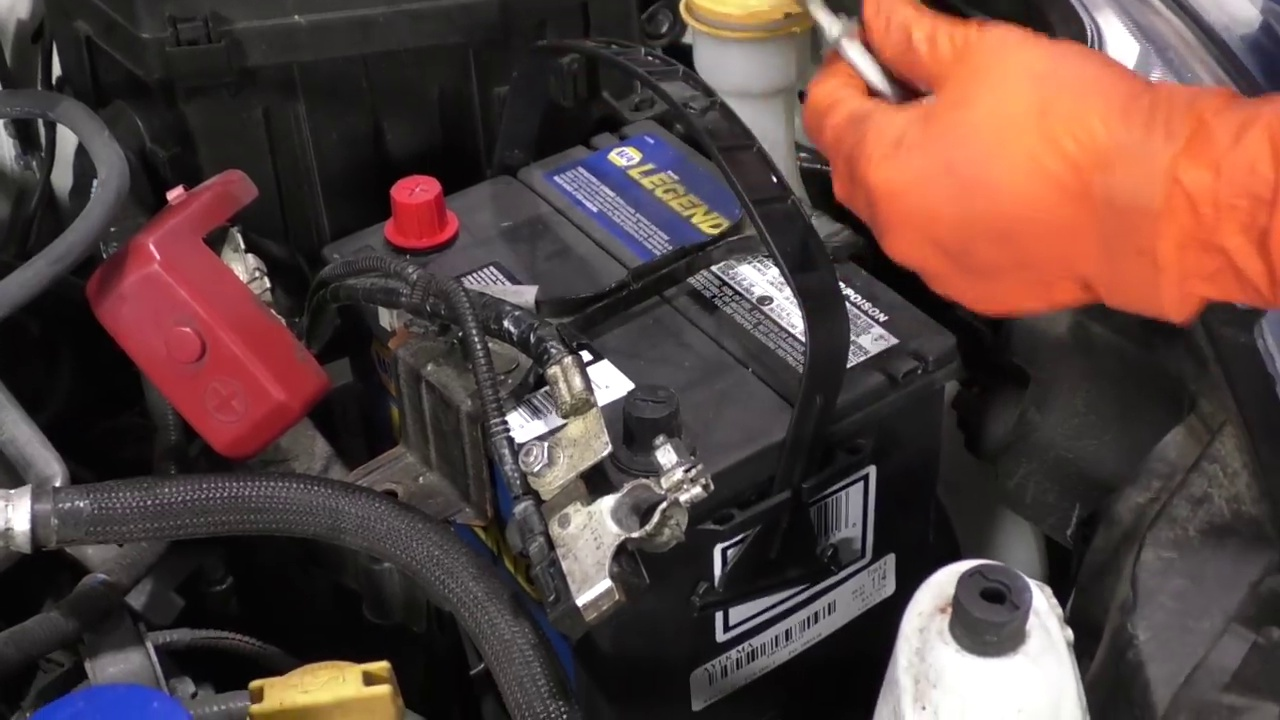battery: (312, 129, 948, 528)
pos_disconnected: (106, 157, 486, 322)
